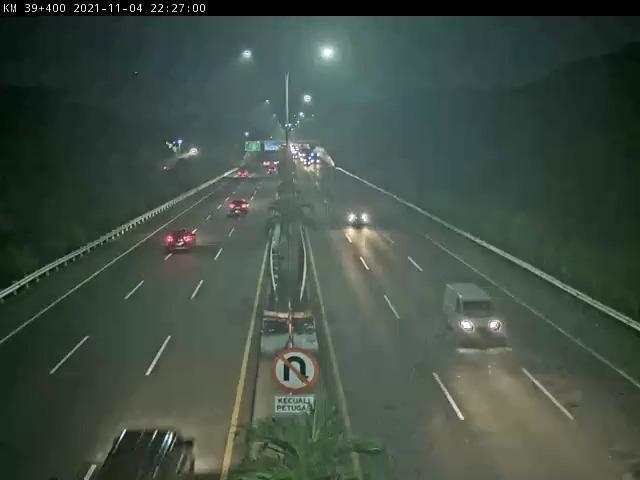car: (443, 282, 501, 345), (165, 230, 198, 253), (344, 201, 370, 227), (229, 199, 253, 220)
